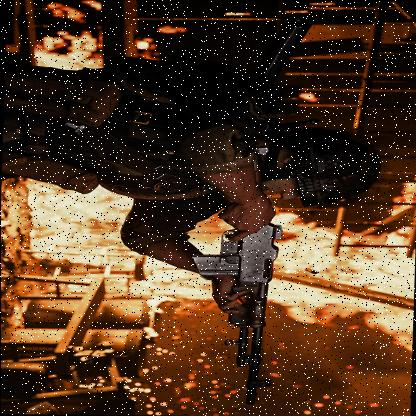rifle: (188, 150, 296, 412)
